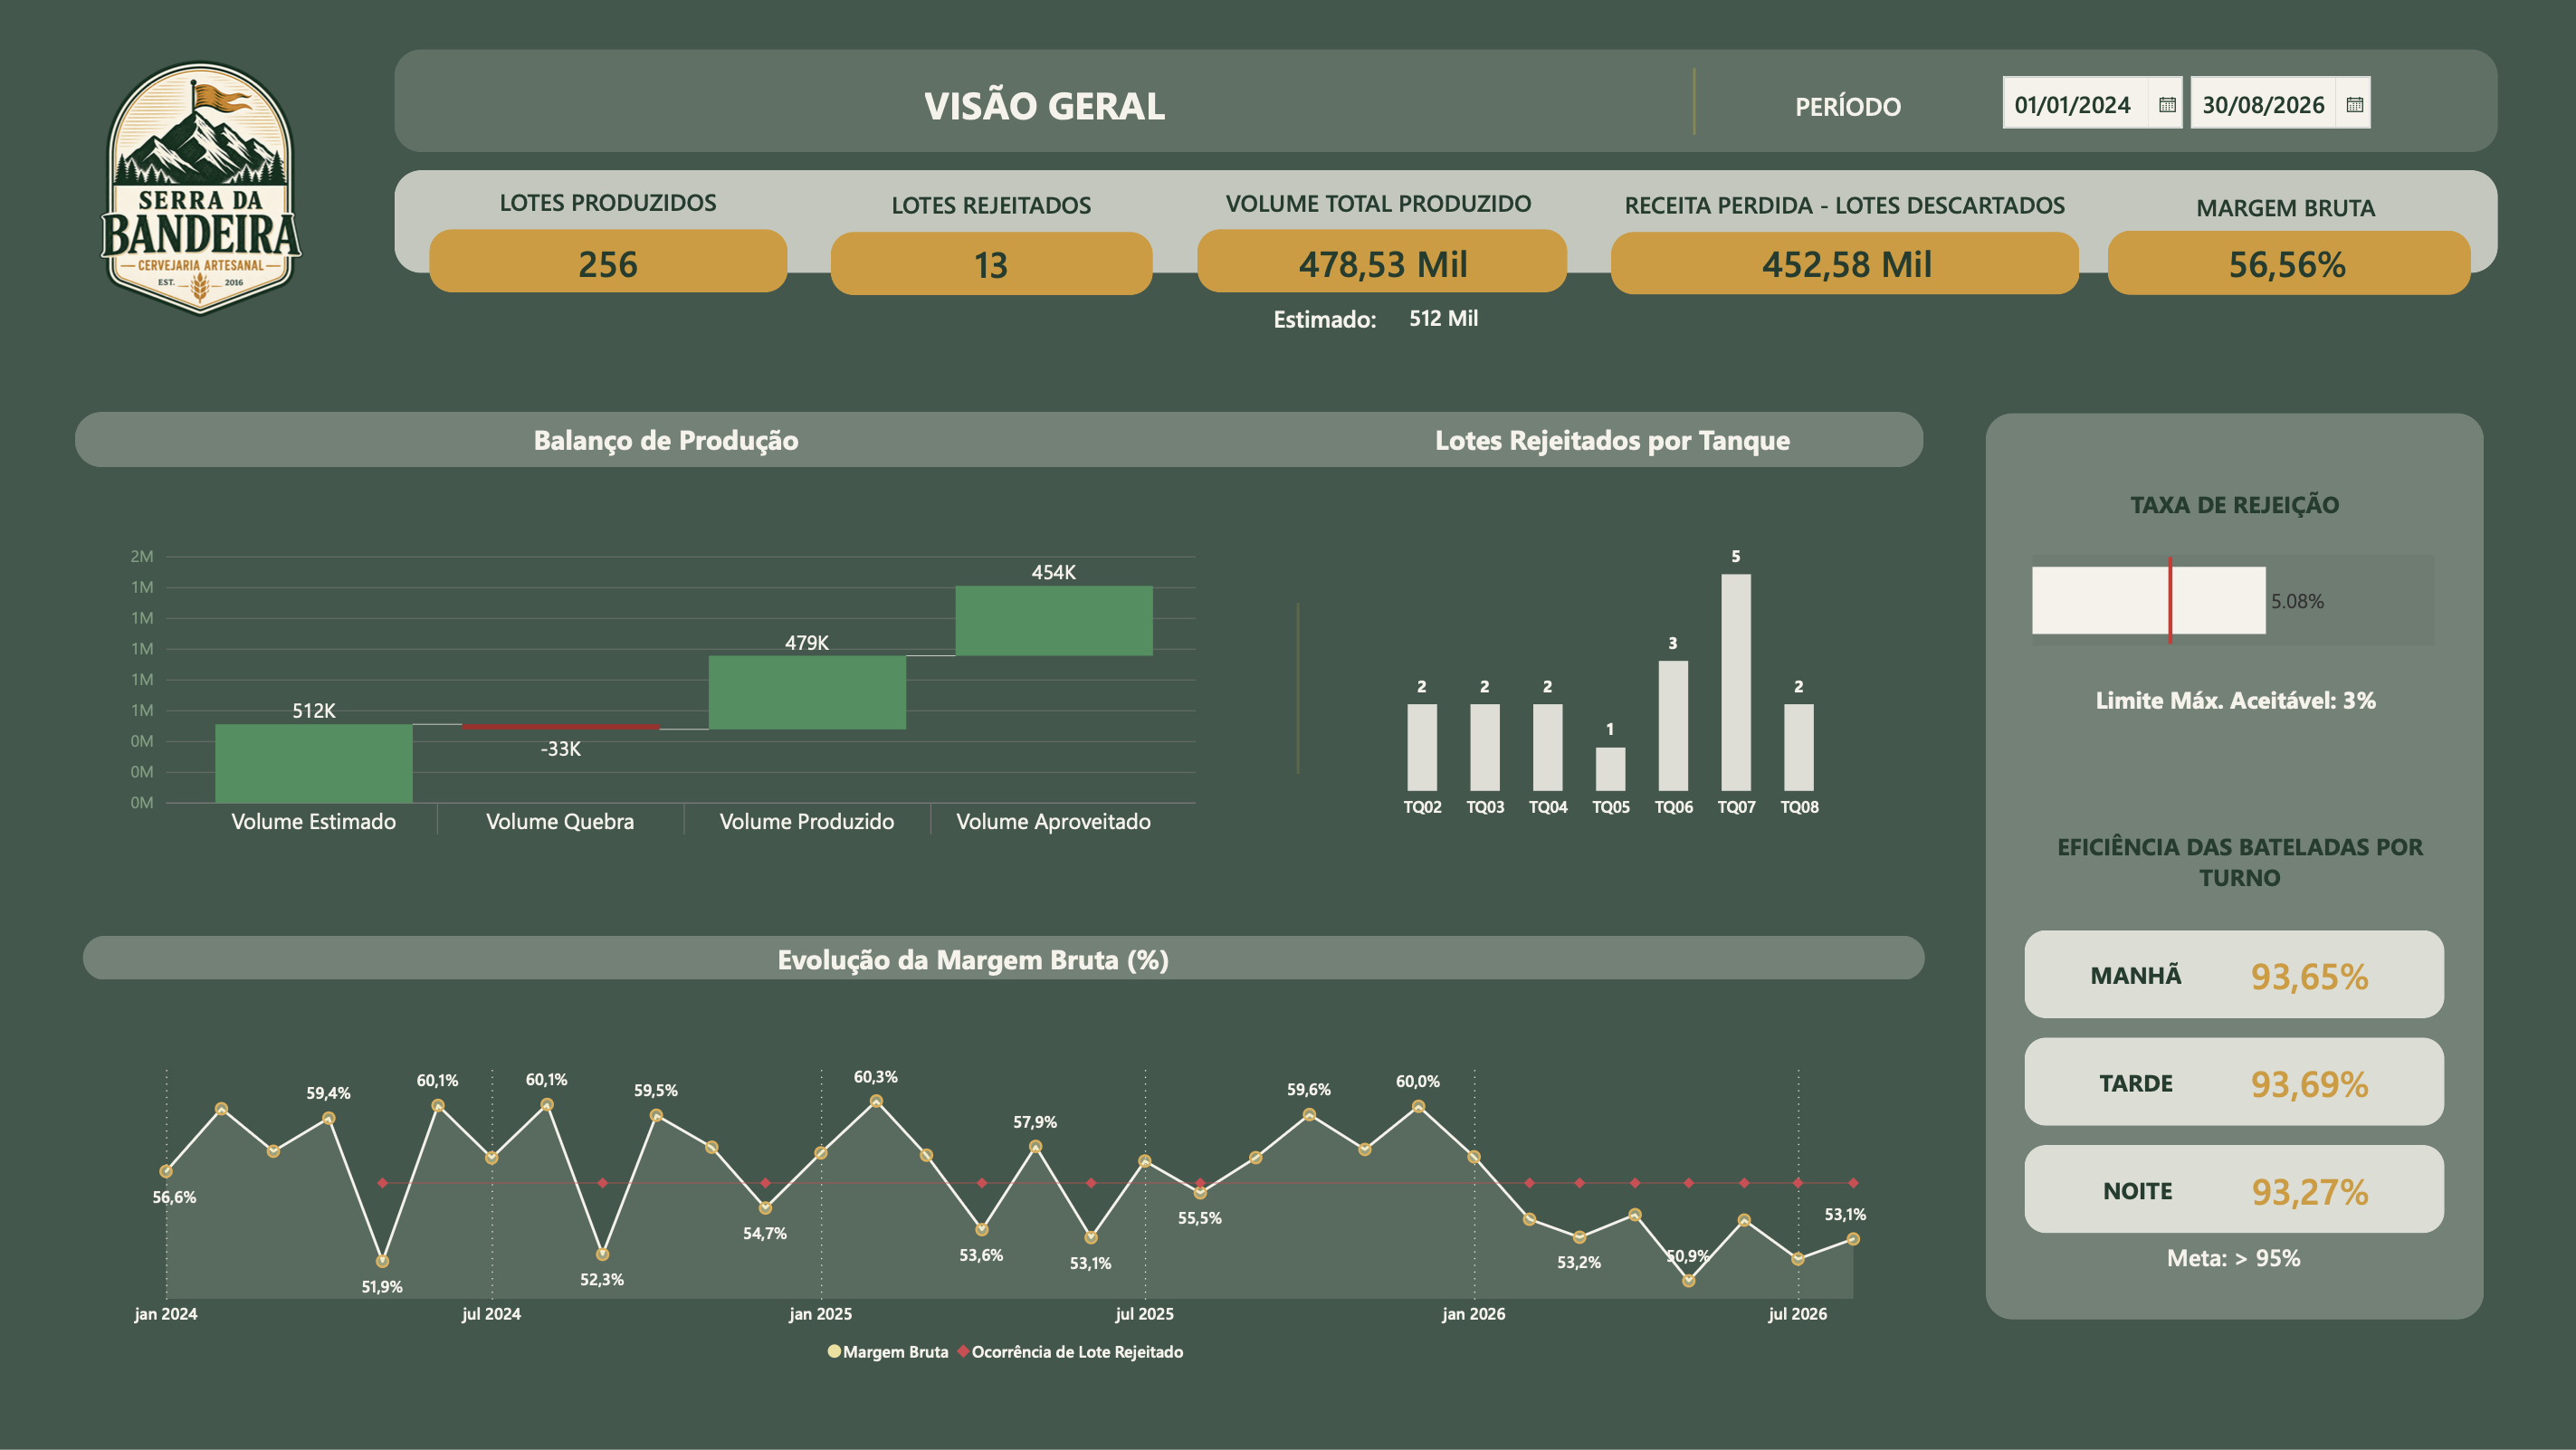

What the dashboard file says about the page in this screenshot:
{"tool":"powerbi","page":{"name":"Resumo Executivo","canvas":[1920,1080],"ordinal":0},"visuals":[{"type":"shape","box":[295,126.7,1566.7,76.7],"z":0},{"type":"shape","box":[57.3,306.7,1377.3,41.3],"z":1000},{"type":"shape","box":[321.4,171.4,267.1,47.1],"z":2000},{"type":"cardVisual","fields":{"Data":["PRODUCAO.Numero_Lotes"]},"box":[321.4,168.6,267.1,51.4],"z":3000},{"type":"shape","box":[321.4,117.1,267.1,65.7],"z":4000},{"type":"shape","box":[619.7,173.3,240,47.1],"z":5000},{"type":"cardVisual","fields":{"Data":["PRODUCAO.Numero_Lotes_Rejeitados"]},"box":[637.1,170,207.3,51.8],"z":6000},{"type":"shape","box":[619.7,117.6,240,67.1],"z":7000},{"type":"shape","box":[892.9,171.4,275.7,47.1],"z":8000},{"type":"cardVisual","fields":{"Data":["PRODUCAO.Volume_Total_Produzido"]},"box":[892.9,168.6,278.6,51.4],"z":9000},{"type":"shape","box":[893.3,116,270.7,68],"z":10000},{"type":"shape","box":[949.9,203.5,98.3,66.7],"z":11000},{"type":"cardVisual","fields":{"Data":["PRODUCAO.Volume_Total_Estimado"]},"box":[990,210,174.3,52.5],"z":12000},{"type":"shape","box":[1201.3,173.3,349.3,46.7],"z":13000},{"type":"shape","box":[1201.3,117.3,349.3,68],"z":14000},{"type":"shape","box":[1570.7,172,270.7,48],"z":15000},{"type":"cardVisual","fields":{"Data":["PRODUCAO.Margem_Bruta_Perc"]},"box":[1569.3,173.3,273.3,44],"z":16000},{"type":"shape","box":[1568,125.3,272,57.3],"z":17000},{"type":"cardVisual","fields":{"Data":["PRODUCAO.Receita_Nao_Realizada"]},"box":[1202.7,170.7,349.3,48],"z":18000},{"type":"image","box":[46.7,23.3,206.7,238.3],"z":19000},{"type":"shape","box":[295,36.7,1566.7,76.7],"z":20000},{"type":"shape","box":[294.7,38.7,969.3,77.3],"z":21000},{"type":"shape","box":[1214.3,51.4,98.3,50],"z":22000},{"type":"shape","box":[1312.9,40,130,77.1],"z":23000},{"type":"slicer","fields":{"Values":["DATA.Date"]},"box":[1485,51.7,355,65],"z":24000},{"type":"SimpleWaterfall","fields":{"measure":["PRODUCAO.Volume_Total_Estimado","PRODUCAO.Volume_Quebra","PRODUCAO.Volume_Total_Produzido","PRODUCAO.Volume_Aproveitado"]},"box":[82.7,381.3,830,264.7],"z":25000},{"type":"shape","box":[93.3,304,809.3,45.3],"z":26000},{"type":"shape","box":[149.7,688.3,1153.3,50],"z":27000},{"type":"shape","box":[1479.8,307.8,371.3,675.1],"z":28000},{"type":"shape","box":[1479.3,336.1,374.2,76.3],"z":29000},{"type":"bulletChartATLYN4E8B2C7A9F1D6053","fields":{"target":["PRODUCAO.Limite_Taxa_Rejeicao"],"maximum":["PRODUCAO.Max_Taxa_Rejeicao"],"actual":["PRODUCAO.Taxa_Rejeicao"],"category":["Tabela.Column"]},"box":[1479,386.2,371.4,148.6],"z":30000},{"type":"shape","box":[1539,494.8,255.7,51.4],"z":31000},{"type":"shape","box":[1507.1,602.1,325.7,77.1],"z":32000},{"type":"shape","box":[1508.7,852.7,312.9,65.7],"z":33000},{"type":"shape","box":[1508.7,772.7,312.9,65.7],"z":34000},{"type":"shape","box":[1508.7,692.7,312.9,65.7],"z":35000},{"type":"shape","box":[1495.8,699.8,192.9,51.4],"z":36000},{"type":"shape","box":[1495.8,779.8,192.9,51.4],"z":37000},{"type":"shape","box":[1497.3,859.8,192.9,51.4],"z":38000},{"type":"cardVisual","fields":{"Data":["PRODUCAO.Eficiencia_Ponderada_Producao"]},"box":[1640.1,699.8,165.7,51.4],"z":39000},{"type":"cardVisual","fields":{"Data":["PRODUCAO.Eficiencia_Ponderada_Producao"]},"box":[1640.1,779.8,165.7,51.4],"z":40000},{"type":"cardVisual","fields":{"Data":["PRODUCAO.Eficiencia_Ponderada_Producao"]},"box":[1640.1,859.8,165.7,51.4],"z":41000},{"type":"lineChart","fields":{"Category":["DATA.Date.Variação.Hierarquia de datas.Ano","DATA.Date.Variação.Hierarquia de datas.Trimestre","DATA.Date.Variação.Hierarquia de datas.Mês"],"Y":["PRODUCAO.Margem_Bruta_Perc"],"Y2":["PRODUCAO.Numero_Lotes_Rejeitados"]},"box":[85.3,773.3,1334.7,262.7],"z":42000},{"type":"shape","box":[1508.5,917.8,312.9,34.3],"z":43000},{"type":"clusteredColumnChart","fields":{"Category":["TANQUE.ID_Tanque"],"Y":["CONTROLE_QUALIDADE.Lotes_Nao_Conformes_Etapa"]},"box":[1014.7,381.3,373.3,249.3],"z":44000},{"type":"shape","box":[1028,304,349.3,44],"z":45000},{"type":"shape","box":[949.3,449.3,38.2,127.7],"z":46000},{"type":"shape","box":[62.7,697.3,1372,33.3],"z":47000}]}

Visuals, with their boxes in screenshot pixels (x1, y1, x2, y2), scaled from the page's 1920x1080 canvas onto the 2576x1450 screenshot:
shape: region(396, 170, 2498, 273)
shape: region(77, 412, 1924, 467)
shape: region(431, 230, 789, 293)
cardVisual - PRODUCAO.Numero_Lotes: region(431, 226, 789, 295)
shape: region(431, 157, 789, 245)
shape: region(832, 233, 1153, 296)
cardVisual - PRODUCAO.Numero_Lotes_Rejeitados: region(854, 228, 1133, 298)
shape: region(832, 157, 1153, 248)
shape: region(1198, 230, 1568, 293)
cardVisual - PRODUCAO.Volume_Total_Produzido: region(1198, 226, 1572, 295)
shape: region(1198, 156, 1561, 247)
shape: region(1274, 273, 1407, 363)
cardVisual - PRODUCAO.Volume_Total_Estimado: region(1328, 282, 1562, 352)
shape: region(1612, 233, 2080, 295)
shape: region(1612, 157, 2080, 249)
shape: region(2107, 231, 2470, 295)
cardVisual - PRODUCAO.Margem_Bruta_Perc: region(2105, 233, 2472, 291)
shape: region(2104, 168, 2468, 245)
cardVisual - PRODUCAO.Receita_Nao_Realizada: region(1614, 229, 2083, 293)
image: region(62, 32, 340, 351)
shape: region(396, 49, 2498, 152)
shape: region(396, 52, 1696, 156)
shape: region(1629, 69, 1761, 136)
shape: region(1761, 53, 1936, 157)
slicer - DATA.Date: region(1992, 70, 2468, 157)
SimpleWaterfall - PRODUCAO.Volume_Total_Estimado x PRODUCAO.Volume_Quebra: region(111, 512, 1225, 867)
shape: region(125, 408, 1211, 469)
shape: region(201, 924, 1748, 991)
shape: region(1985, 414, 2484, 1320)
shape: region(1985, 452, 2486, 554)
bulletChartATLYN4E8B2C7A9F1D6053 - PRODUCAO.Limite_Taxa_Rejeicao x PRODUCAO.Max_Taxa_Rejeicao: region(1984, 519, 2483, 718)
shape: region(2065, 664, 2408, 733)
shape: region(2022, 808, 2459, 911)
shape: region(2024, 1145, 2444, 1233)
shape: region(2024, 1037, 2444, 1126)
shape: region(2024, 930, 2444, 1018)
shape: region(2007, 940, 2266, 1008)
shape: region(2007, 1047, 2266, 1116)
shape: region(2008, 1154, 2267, 1224)
cardVisual - PRODUCAO.Eficiencia_Ponderada_Producao: region(2200, 940, 2423, 1008)
cardVisual - PRODUCAO.Eficiencia_Ponderada_Producao: region(2200, 1047, 2423, 1116)
cardVisual - PRODUCAO.Eficiencia_Ponderada_Producao: region(2200, 1154, 2423, 1224)
lineChart - DATA.Date.Variação.Hierarquia de datas.Ano x DATA.Date.Variação.Hierarquia de datas.Trimestre: region(114, 1038, 1905, 1391)
shape: region(2024, 1232, 2444, 1278)
clusteredColumnChart - TANQUE.ID_Tanque x CONTROLE_QUALIDADE.Lotes_Nao_Conformes_Etapa: region(1361, 512, 1862, 846)
shape: region(1379, 408, 1848, 467)
shape: region(1274, 603, 1325, 775)
shape: region(84, 936, 1925, 981)
